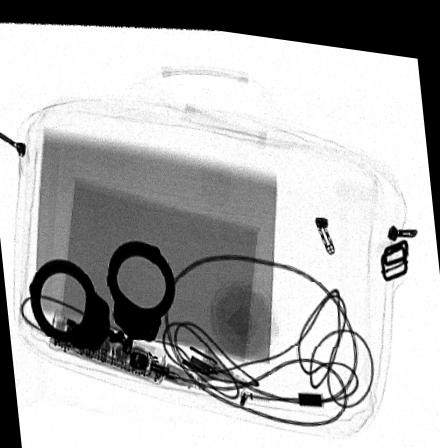HandCuffs: (28, 236, 175, 351)
